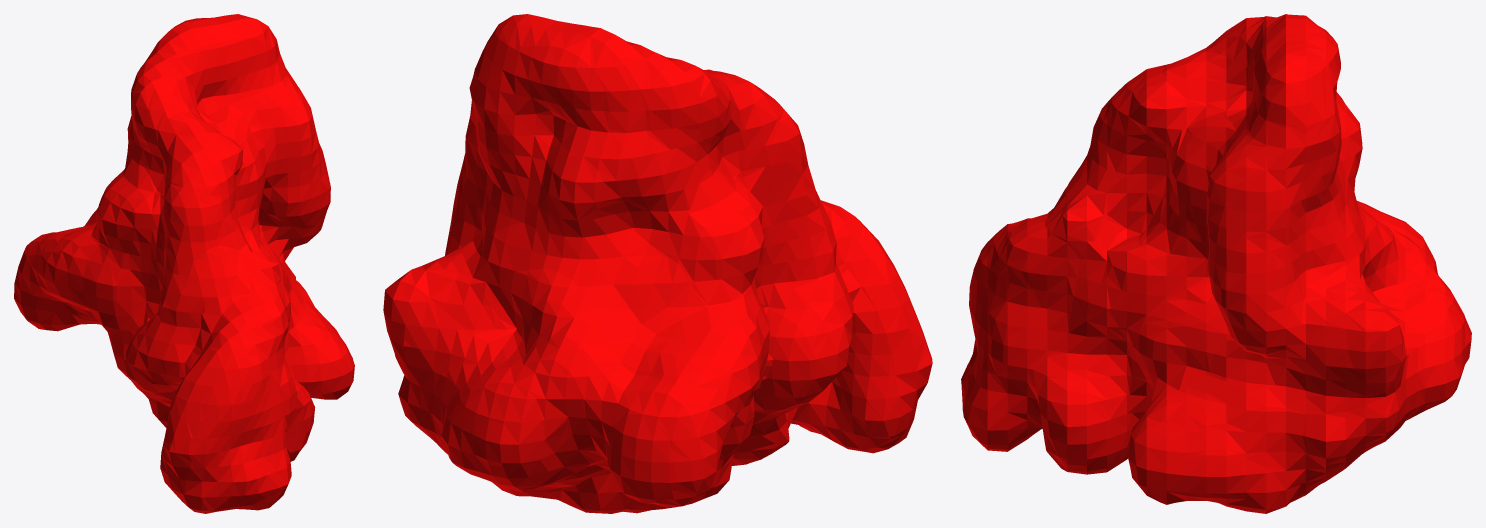
Rendered from ycjX_coarse.dae.
The picture shows the model from 3 angles, left to right: view 1: azimuth 30°, elevation 25°; view 2: azimuth 150°, elevation 25°; view 3: azimuth 270°, elevation 25°; orthographic projection. The views are drawn at different scales.
Parts seen in each view (by area): view 1: ycjX; view 2: ycjX; view 3: ycjX.
Part boxes in pixels (<box>): ycjX: <box>14,14,354,513</box>; ycjX: <box>383,14,932,513</box>; ycjX: <box>961,14,1471,513</box>.
Bounding box in the file's own units: 54.64 × 76.14 × 75.88.
